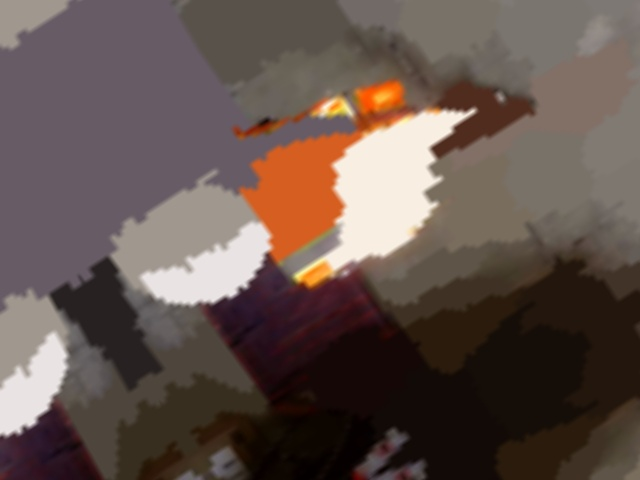two: (165, 216, 233, 278)
